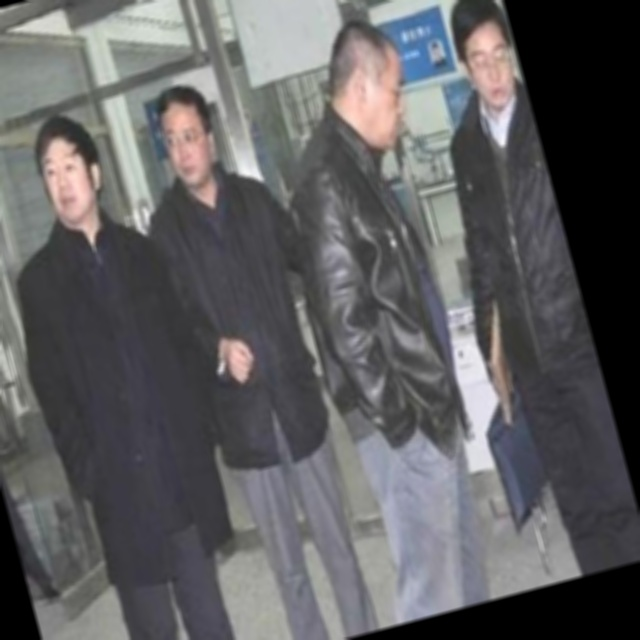Sin_Casco_Mascarrilla: (23, 103, 114, 224), (147, 75, 224, 186)
